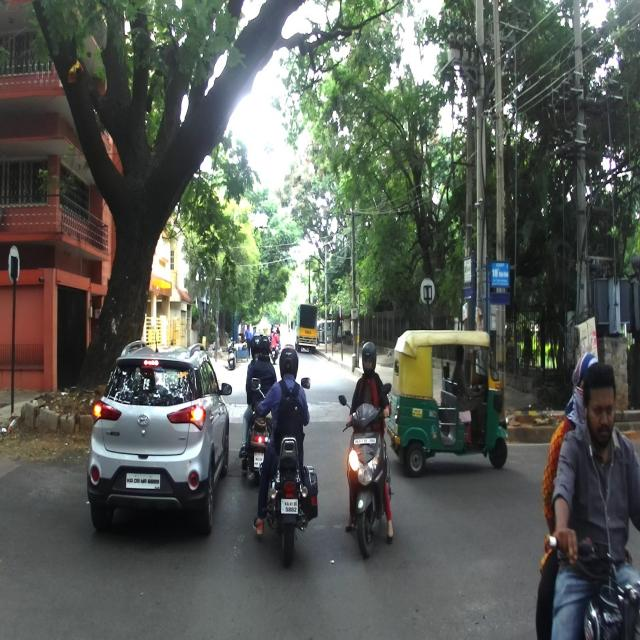autorickshaw: (386, 328, 509, 477)
car: (86, 333, 232, 538)
motorcycle: (250, 376, 318, 567), (546, 535, 640, 640)
scooter: (337, 381, 394, 559), (244, 372, 278, 487)
